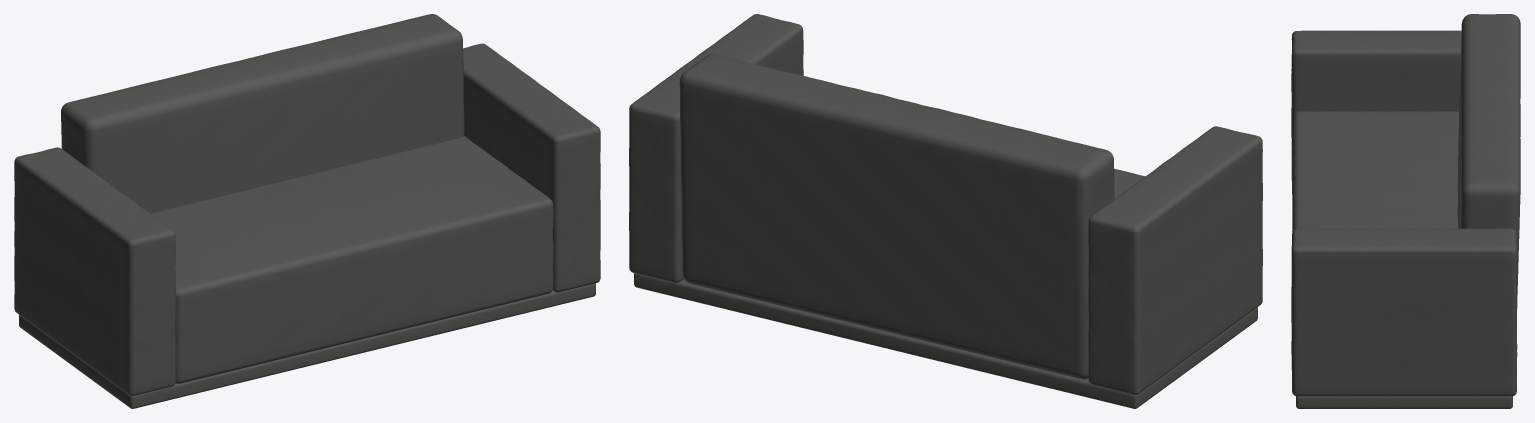
3 renders of one model, left to right at view 1: azimuth 30°, elevation 25°; view 2: azimuth 150°, elevation 25°; view 3: azimuth 270°, elevation 25°, orthographic. The views are drawn at different scales.
Visible parts, largest first — view 1: sf3s-074; view 2: sf3s-074; view 3: sf3s-074.
Part boxes in pixels (x1,y1,x2,y2): sf3s-074: (14, 14, 600, 408); sf3s-074: (629, 14, 1262, 408); sf3s-074: (1291, 14, 1520, 408).
Bounding box in the file's own units: 1.85 × 0.811 × 0.8164.
Materials: 2 (1 with a texture image).
